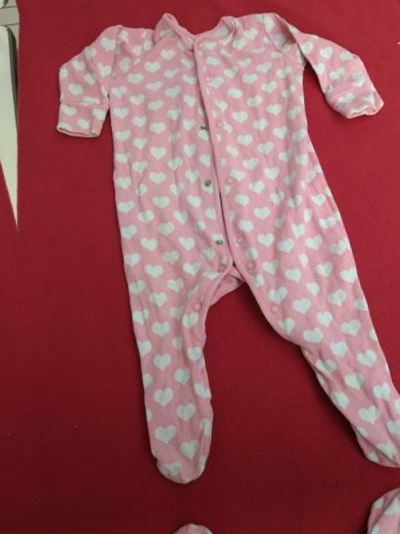Body: (22, 0, 400, 497), (86, 493, 400, 534), (0, 27, 20, 534), (0, 0, 379, 9)
